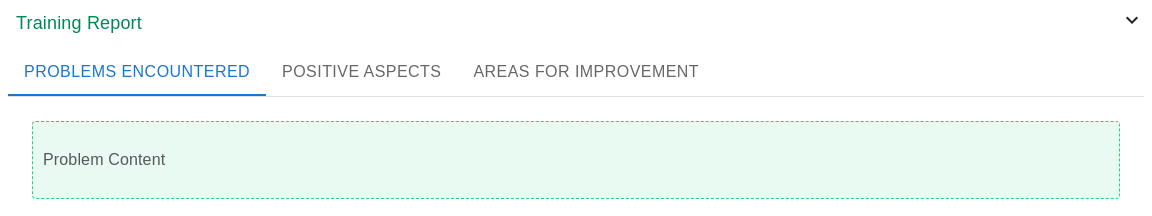
Test: OverallTrainingCampReport › switches to 'Positive Aspects' tab and shows correct content
Click the tab "POSITIVE ASPECTS". click: (362, 72)
box: [266,48,458,96]
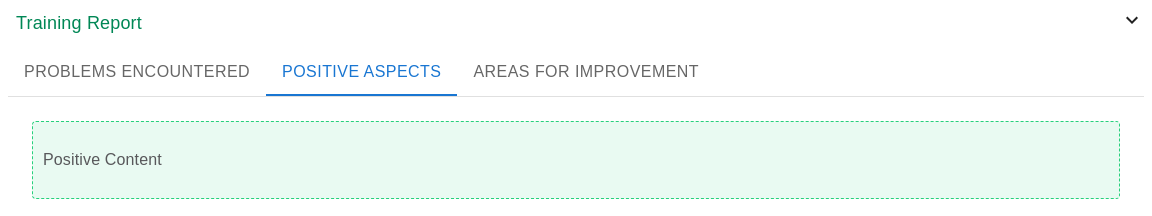
Now the text "Positive Content" is shown, box [43,150,162,168]
